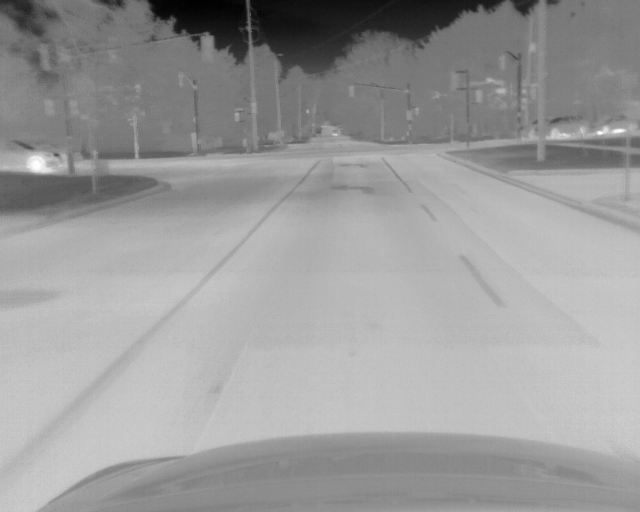car: (1, 140, 68, 175), (590, 111, 635, 136), (544, 115, 582, 140)
